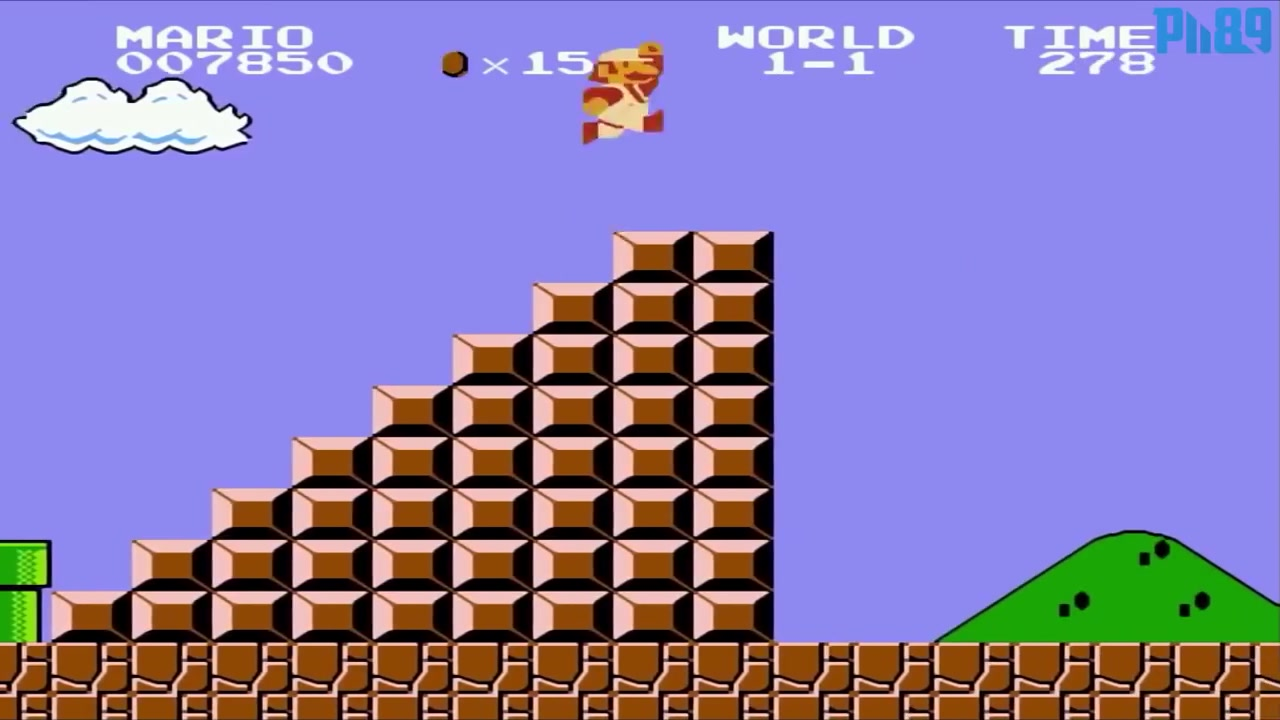mario: (573, 38, 689, 163)
